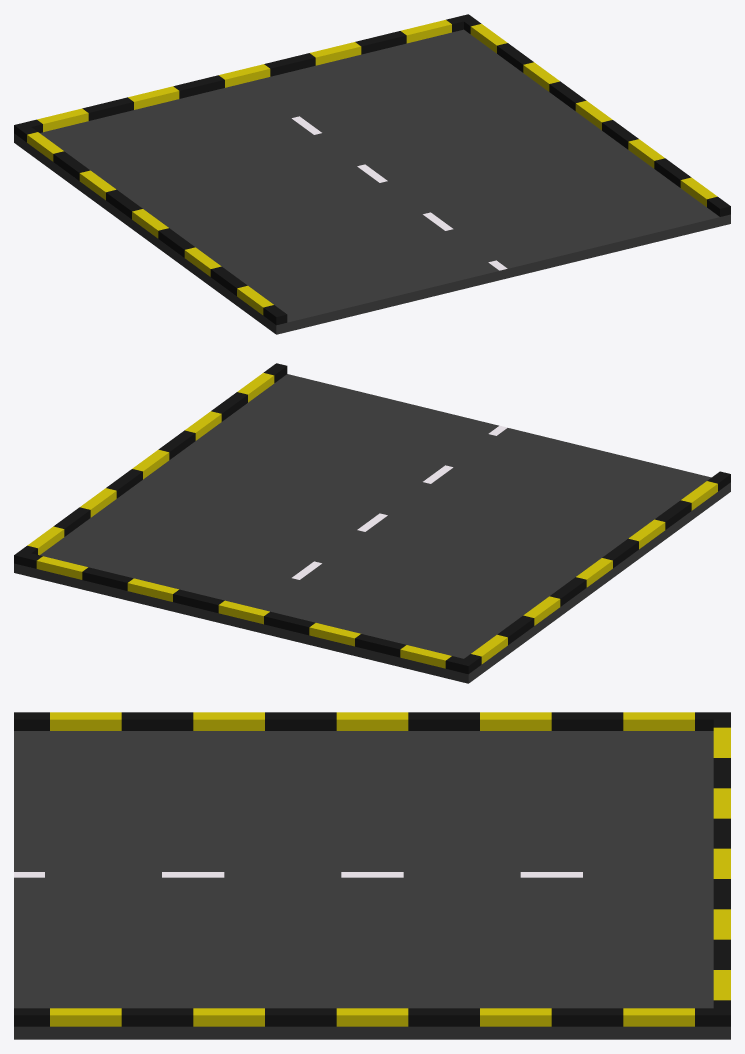
The model's file is single_road_end.glb.
3 views of the same model, one above another, from view 1: azimuth 30°, elevation 25°; view 2: azimuth 150°, elevation 25°; view 3: azimuth 270°, elevation 25° (orthographic). The views are drawn at different scales.
Parts seen in each view (by area): view 1: Cube.005, Sidewalk.008, Sidewalk.005, Sidewalk.004, Cube.006; view 2: Cube.005, Sidewalk.008, Sidewalk.005, Sidewalk.004, Cube.006; view 3: Cube.005, Sidewalk.004, Sidewalk.005, Sidewalk.008, Cube.006.
Part boxes in pixels (left/top/right/bottom): Cube.005: left=14, top=29, right=730, bottom=334; Sidewalk.008: left=14, top=14, right=473, bottom=132; Sidewalk.005: left=14, top=122, right=287, bottom=325; Sidewalk.004: left=458, top=14, right=730, bottom=216; Cube.006: left=291, top=116, right=507, bottom=270; Cube.005: left=14, top=374, right=730, bottom=683; Sidewalk.008: left=14, top=551, right=463, bottom=671; Sidewalk.005: left=457, top=471, right=730, bottom=674; Sidewalk.004: left=14, top=363, right=287, bottom=565; Cube.006: left=291, top=425, right=507, bottom=579; Cube.005: left=14, top=731, right=730, bottom=1039; Sidewalk.004: left=14, top=1008, right=730, bottom=1026; Sidewalk.005: left=14, top=712, right=730, bottom=730; Sidewalk.008: left=713, top=712, right=730, bottom=1014; Cube.006: left=14, top=872, right=582, bottom=877.
Bounding box in the file's own units: 2 × 0.0741 × 2.
